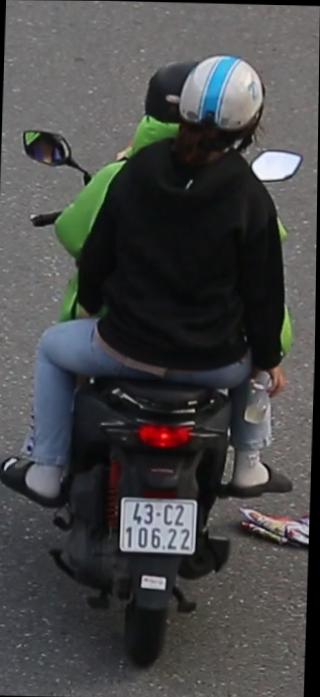LP: (117, 490, 202, 562)
helmet: (176, 46, 272, 168), (138, 50, 194, 150)
